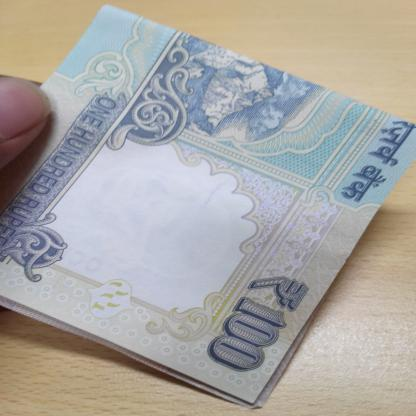Old100Back: (0, 2, 416, 411)
